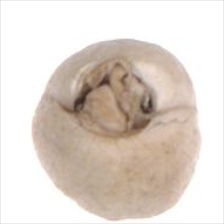L3: (67, 57, 163, 138)
L4: (32, 38, 203, 220)
